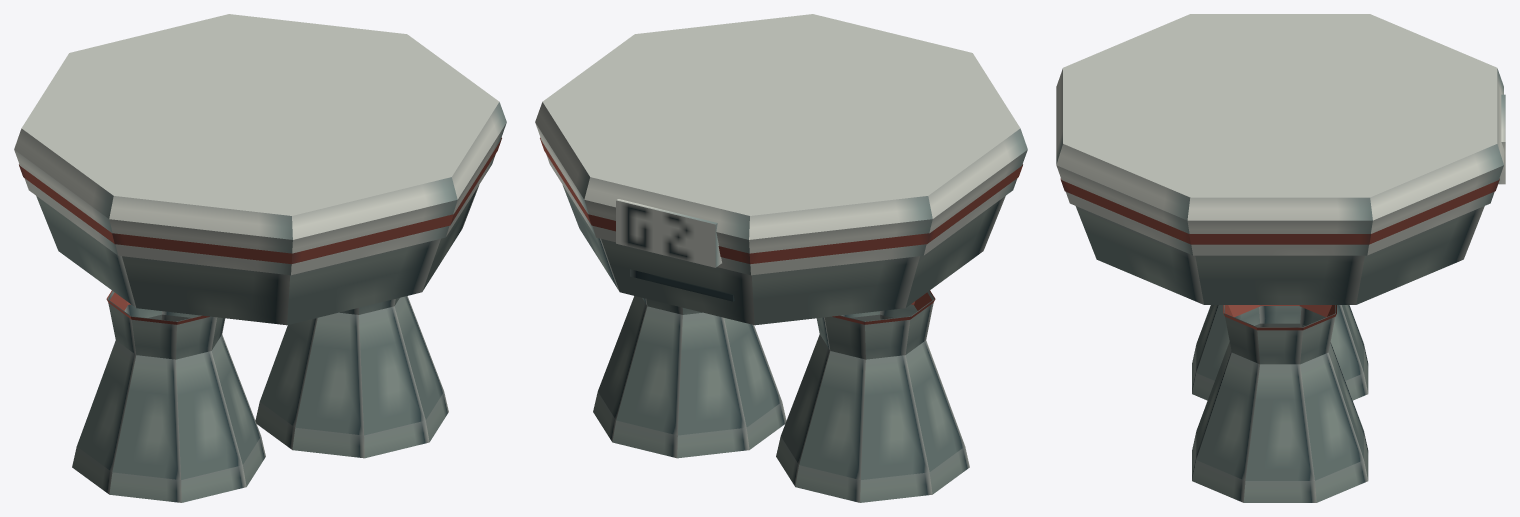
Rendered from rocket_engine_tier_2.obj.
3 renders of one model, left to right at view 1: azimuth 30°, elevation 25°; view 2: azimuth 150°, elevation 25°; view 3: azimuth 270°, elevation 25°, orthographic. The views are drawn at different scales.
Visible parts, largest first — view 1: Engine, Nozzle; view 2: Engine, Nozzle; view 3: Engine, Nozzle.
Boxes of the visible parts, x1=… form: Engine: x1=14, y1=14, x2=506, y2=325; Nozzle: x1=72, y1=290, x2=448, y2=502; Engine: x1=535, y1=14, x2=1027, y2=325; Nozzle: x1=593, y1=290, x2=969, y2=502; Engine: x1=1056, y1=14, x2=1505, y2=304; Nozzle: x1=1192, y1=305, x2=1368, y2=502.
Bounding box in the file's own units: 1.25 × 0.975 × 1.25.
